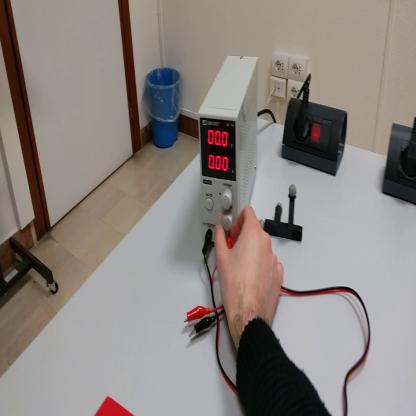hand: (215, 205, 283, 334)
power supply: (197, 55, 257, 243)
register: (95, 395, 135, 416)
socket: (284, 97, 349, 179), (383, 122, 416, 218)
